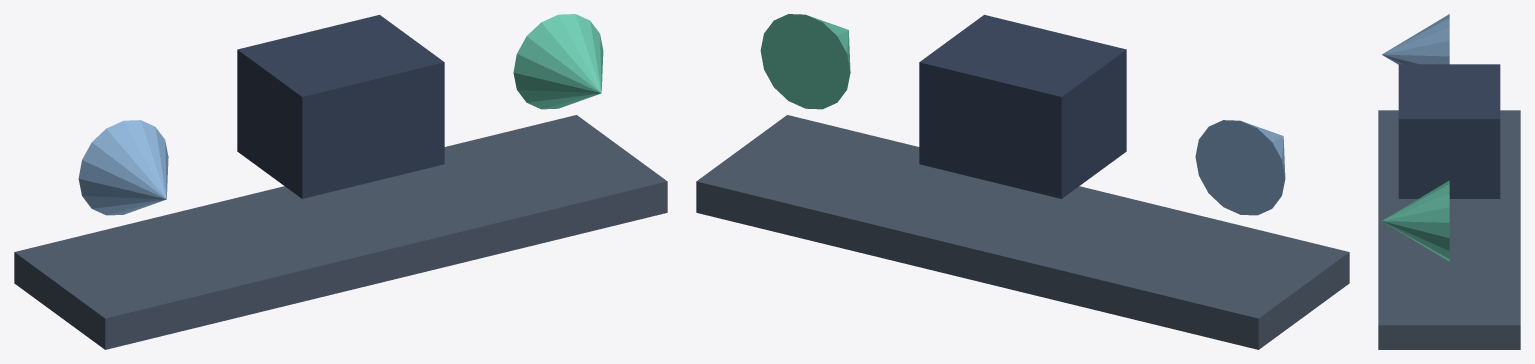
File: FuncionesModulos.glb
The picture shows the model from 3 angles, left to right: view 1: azimuth 30°, elevation 25°; view 2: azimuth 150°, elevation 25°; view 3: azimuth 270°, elevation 25°; orthographic projection. The views are drawn at different scales.
Visible parts, largest first — view 1: n0, n2, n1, n3; view 2: n0, n2, n3, n1; view 3: n0, n2, n3, n1.
Boxes of the visible parts, x1,y1,x2,y2 form: n0: (14, 115, 667, 349); n2: (237, 14, 444, 198); n1: (78, 120, 168, 215); n3: (513, 14, 603, 109); n0: (696, 115, 1349, 349); n2: (919, 14, 1126, 198); n3: (760, 14, 850, 109); n1: (1195, 120, 1285, 215); n0: (1378, 110, 1520, 349); n2: (1398, 64, 1500, 198); n3: (1382, 180, 1449, 261); n1: (1382, 14, 1449, 64).
Bounding box in the file's own units: 1.5 × 0.49 × 0.42.
